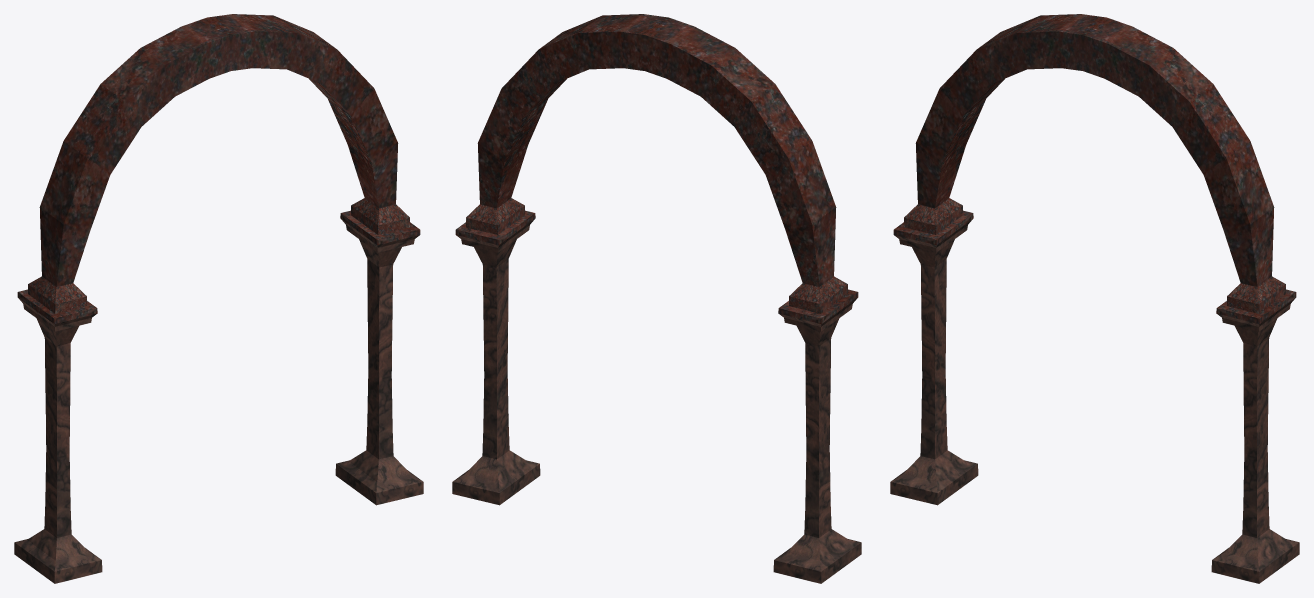
File: Archway.glb
3 renders of one model, left to right at view 1: azimuth 30°, elevation 25°; view 2: azimuth 150°, elevation 25°; view 3: azimuth 330°, elevation 25°, orthographic.
Visible parts, largest first — view 1: Archway; view 2: Archway; view 3: Archway.
Boxes of the visible parts, box(x1,y1,x2,y2) form: Archway: box(14, 14, 423, 583); Archway: box(452, 14, 861, 583); Archway: box(890, 14, 1299, 583).
Bounding box in the file's own units: 1 × 1.29 × 0.1913.
Materials: 2 (2 with a texture image).
